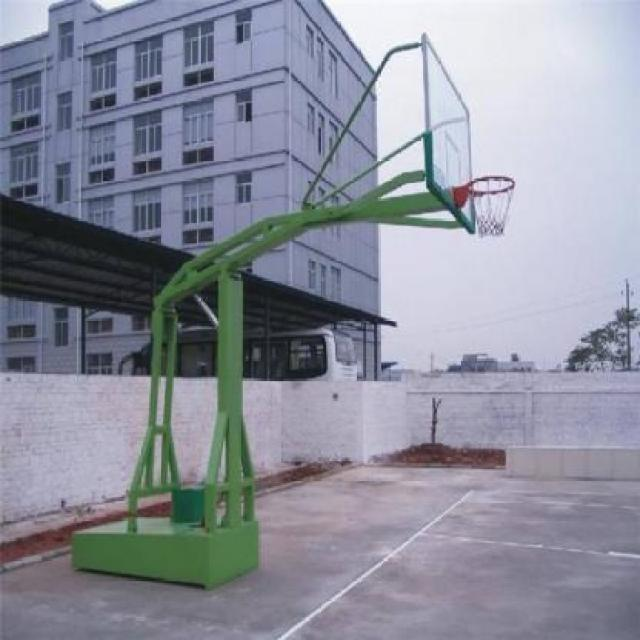rim: (469, 176, 517, 238)
